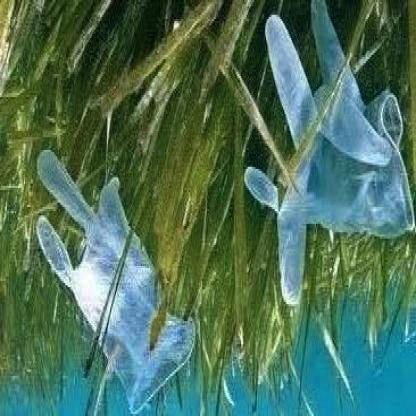glove: (244, 0, 414, 310), (35, 137, 200, 414)
